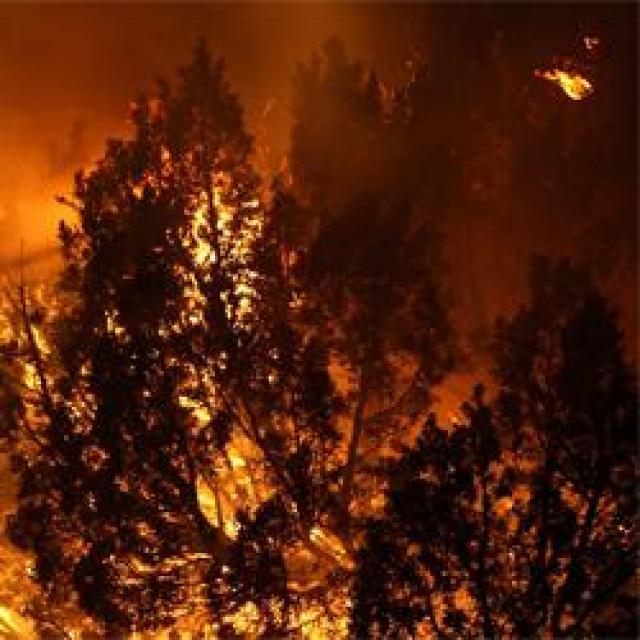Fire: (4, 76, 119, 318), (160, 180, 280, 330), (19, 531, 132, 639), (196, 418, 274, 540), (542, 70, 591, 101), (225, 602, 263, 638), (200, 480, 220, 532), (456, 586, 478, 632)
Smoke: (348, 156, 640, 448)
